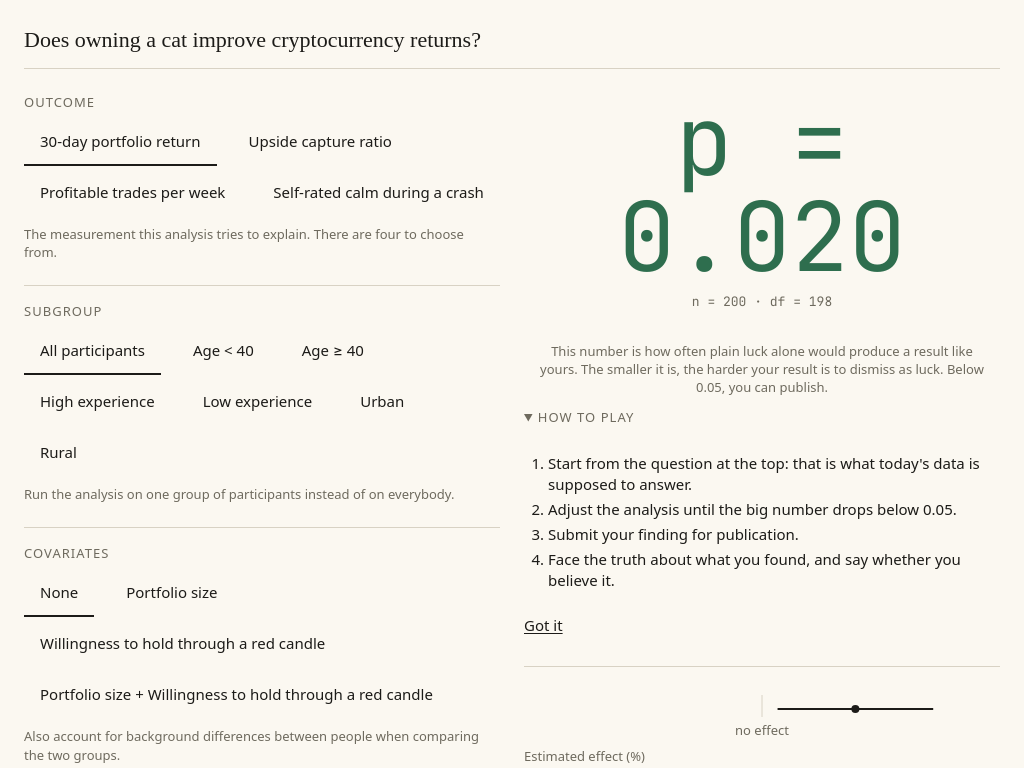
Scenario: Lab first-run intro (T31) › dismissing it persists settings.introSeen and removes it from the screen
Check: the element with test id "lab-intro" is shown, box left=524, top=396, right=1000, bottom=667
Click the button "Got it". click: coordinates (551, 626)
box: left=524, top=603, right=579, bottom=650
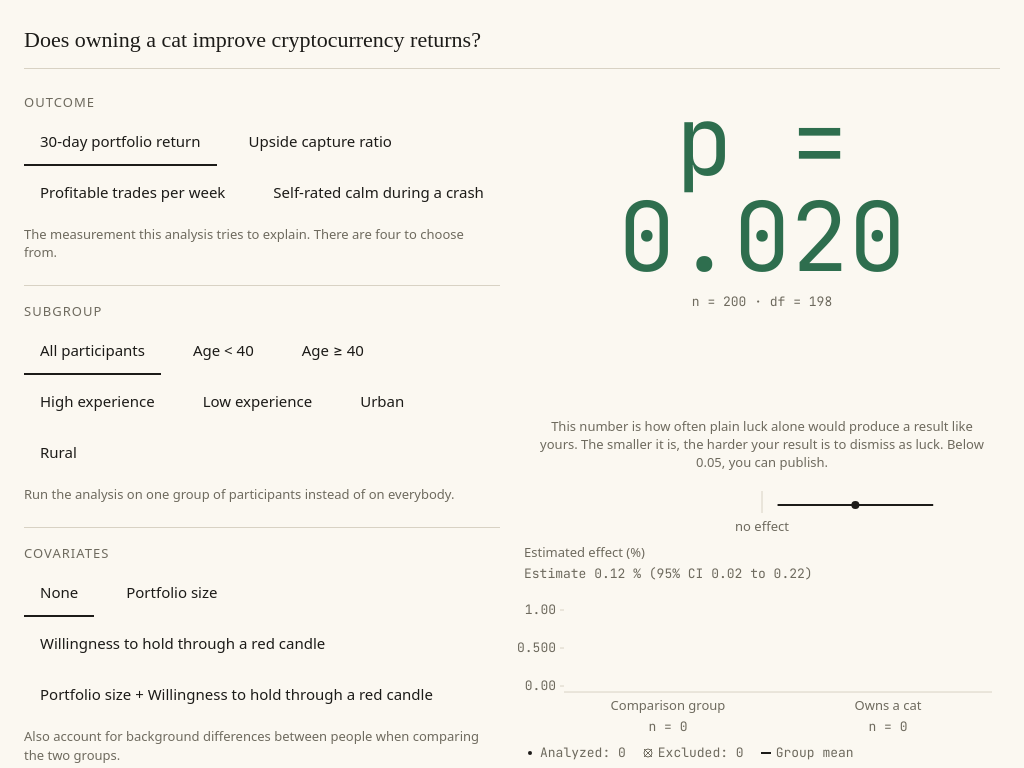
Check: the element with test id "lab-intro" is gone
